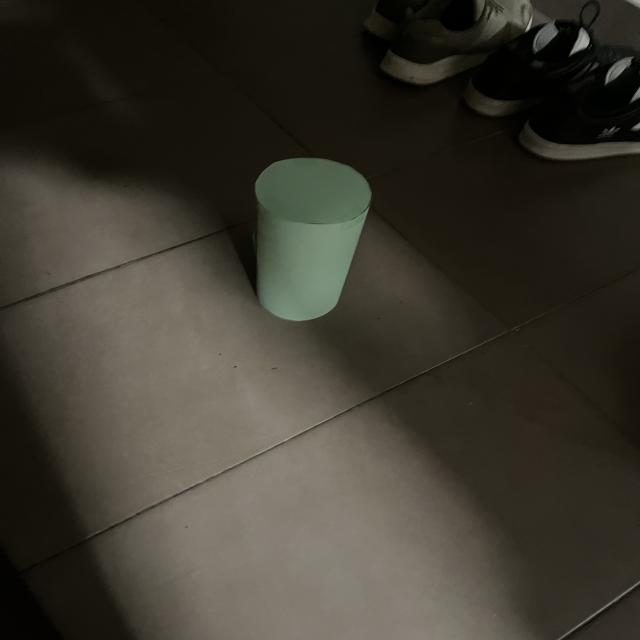meta: (254, 158, 371, 321)
